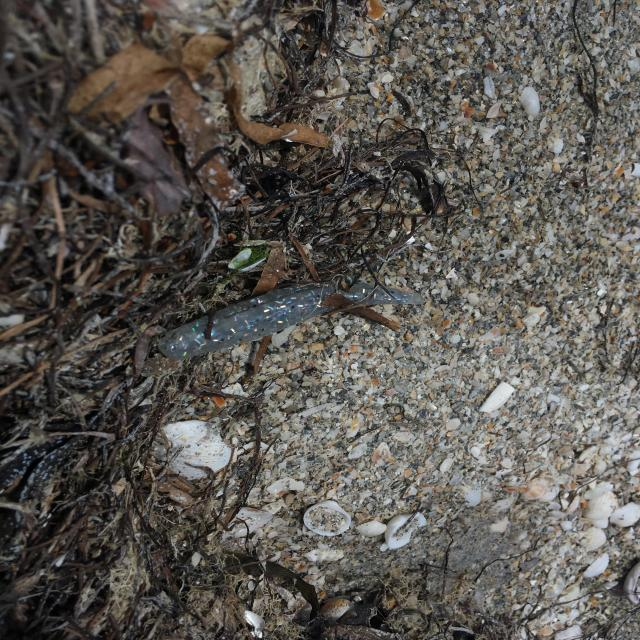litter: (156, 281, 423, 361)
